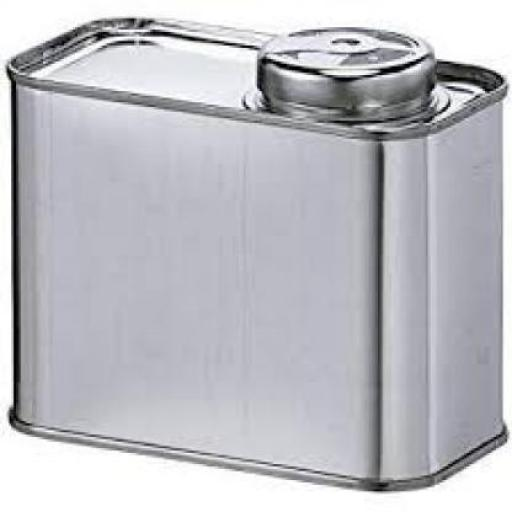metal: (4, 12, 506, 489)
